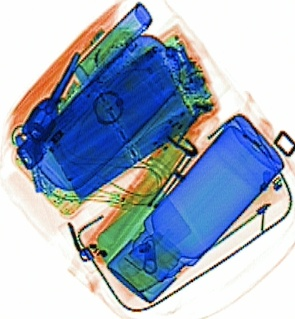powerbank: (43, 45, 195, 202)
